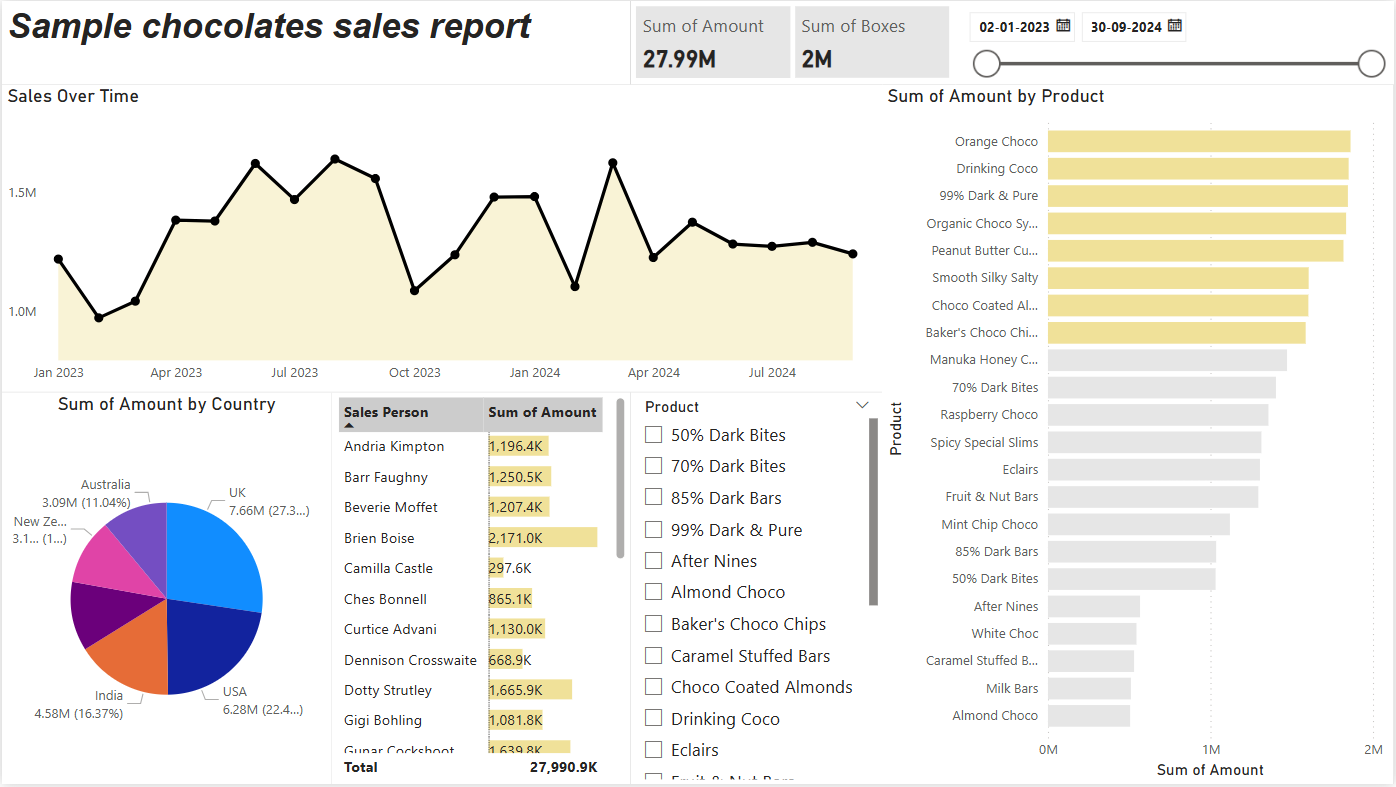

What the dashboard file says about the page in this screenshot:
{"tool":"powerbi","page":{"name":"Page 1","canvas":[1280,720],"ordinal":0},"visuals":[{"type":"lineChart","title":"Sales Over Time ","fields":{"Category":["data.Date.Variation.Date Hierarchy.Year","data.Date.Variation.Date Hierarchy.Quarter","data.Date.Variation.Date Hierarchy.Month","data.Date.Variation.Date Hierarchy.Day"],"Y":["data.Amount"]},"box":[0,76.8,809.6,282.7],"z":0},{"type":"barChart","fields":{"Category":["data.Product"],"Y":["data.Amount"]},"box":[809.6,76.8,470.7,643.6],"z":1000},{"type":"slicer","fields":{"Values":["data.Product"]},"box":[577.7,359.5,231.9,360.9],"z":2000},{"type":"pieChart","fields":{"Category":["data.Country"],"Y":["data.Amount"]},"box":[0,359.5,303.3,360.9],"z":3000},{"type":"tableEx","fields":{"Values":["data.Sales Person","data.Amount"]},"box":[303.3,359.5,274.4,360.9],"z":4000},{"type":"cardVisual","fields":{"Data":["data.Amount","data.Boxes"]},"box":[577.7,0,299.1,76.8],"z":5000},{"type":"slicer","fields":{"Values":["data.Date"]},"box":[876.8,0,403.4,76.8],"z":6000},{"type":"textbox","box":[0,0,577.7,76.8],"z":7000}]}

Visuals, with their boxes in screenshot pixels (x1, y1, x2, y2), scaled from the page's 1280x720 canvas onto the 1396x787 screenshot:
"Sales Over Time " lineChart: {"x1": 0, "y1": 84, "x2": 883, "y2": 393}
barChart - data.Product x data.Amount: {"x1": 883, "y1": 84, "x2": 1395, "y2": 786}
slicer - data.Product: {"x1": 630, "y1": 393, "x2": 883, "y2": 786}
pieChart - data.Country x data.Amount: {"x1": 0, "y1": 393, "x2": 331, "y2": 786}
tableEx - data.Sales Person x data.Amount: {"x1": 331, "y1": 393, "x2": 630, "y2": 786}
cardVisual - data.Amount x data.Boxes: {"x1": 630, "y1": 0, "x2": 956, "y2": 84}
slicer - data.Date: {"x1": 956, "y1": 0, "x2": 1395, "y2": 84}
textbox: {"x1": 0, "y1": 0, "x2": 630, "y2": 84}
